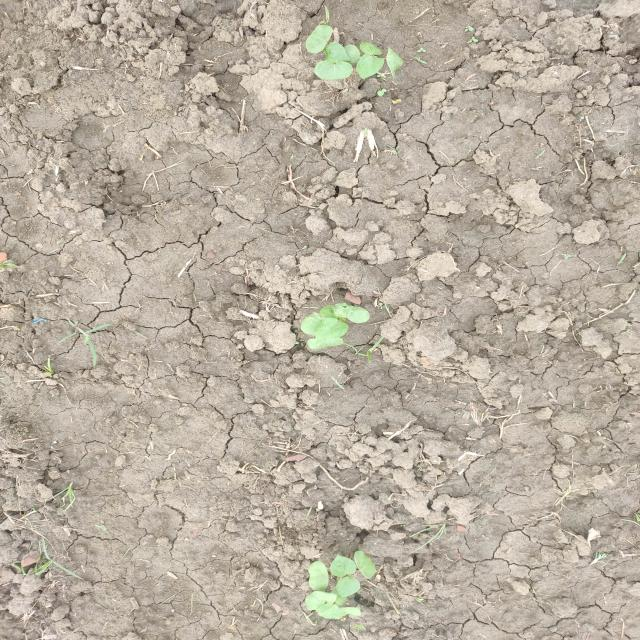seedling_s4: (306, 25, 333, 54), (314, 60, 353, 80), (333, 302, 370, 323), (315, 317, 348, 340), (356, 55, 385, 80), (354, 551, 376, 579), (305, 591, 337, 610), (308, 561, 328, 591), (330, 554, 356, 577), (324, 42, 351, 64), (385, 47, 402, 78), (335, 576, 360, 597), (300, 312, 322, 334), (307, 338, 343, 350), (320, 306, 346, 322), (316, 603, 341, 619), (344, 44, 361, 64), (359, 42, 383, 55), (336, 607, 360, 619), (331, 589, 347, 605)
